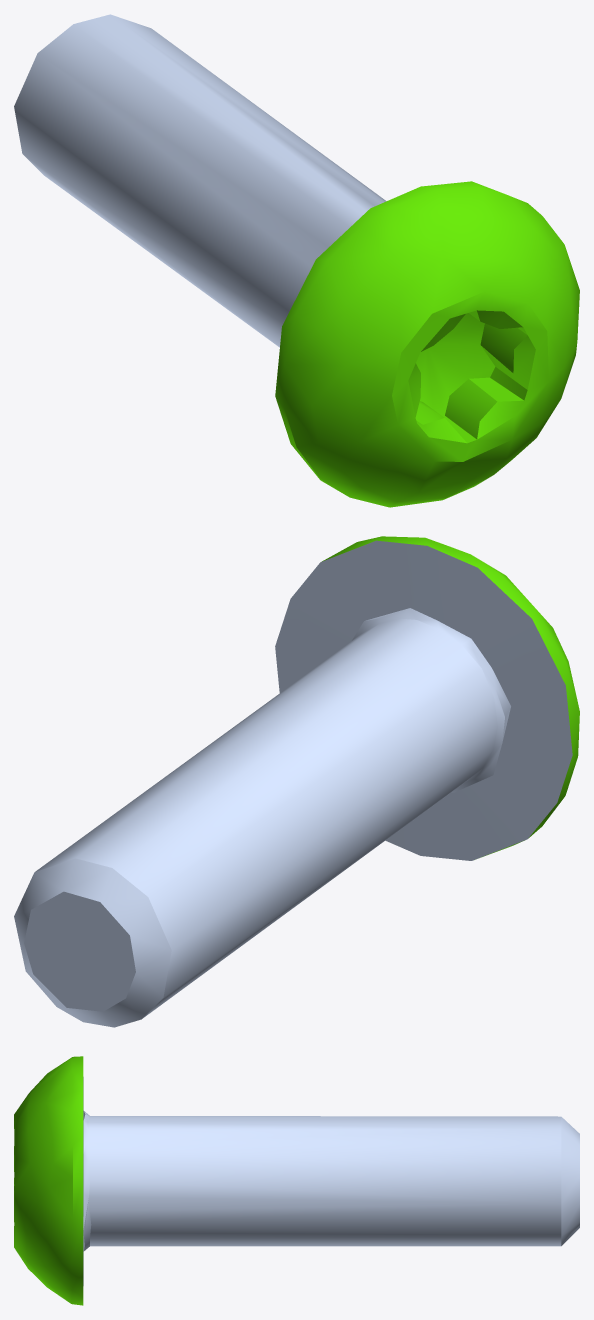
Rendered from Colored__8-32_x_5_8_Star_Drive_Screw__276-4993__001.glb.
3 renders of one model, top to bottom at view 1: azimuth 30°, elevation 25°; view 2: azimuth 150°, elevation 25°; view 3: azimuth 270°, elevation 25°, orthographic. The views are drawn at different scales.
Parts seen in each view (by area): view 1: Colored #8-32 x 5_8 Star Drive Screw (276-4993).001; view 2: Colored #8-32 x 5_8 Star Drive Screw (276-4993).001; view 3: Colored #8-32 x 5_8 Star Drive Screw (276-4993).001.
Boxes of the visible parts, x1,y1,x2,y2 form: Colored #8-32 x 5_8 Star Drive Screw (276-4993).001: (14,14,579,507); Colored #8-32 x 5_8 Star Drive Screw (276-4993).001: (14,536,579,1027); Colored #8-32 x 5_8 Star Drive Screw (276-4993).001: (14,1056,579,1305).
Size of the model in its own units: 0.3123 by 0.3131 by 0.7123.
